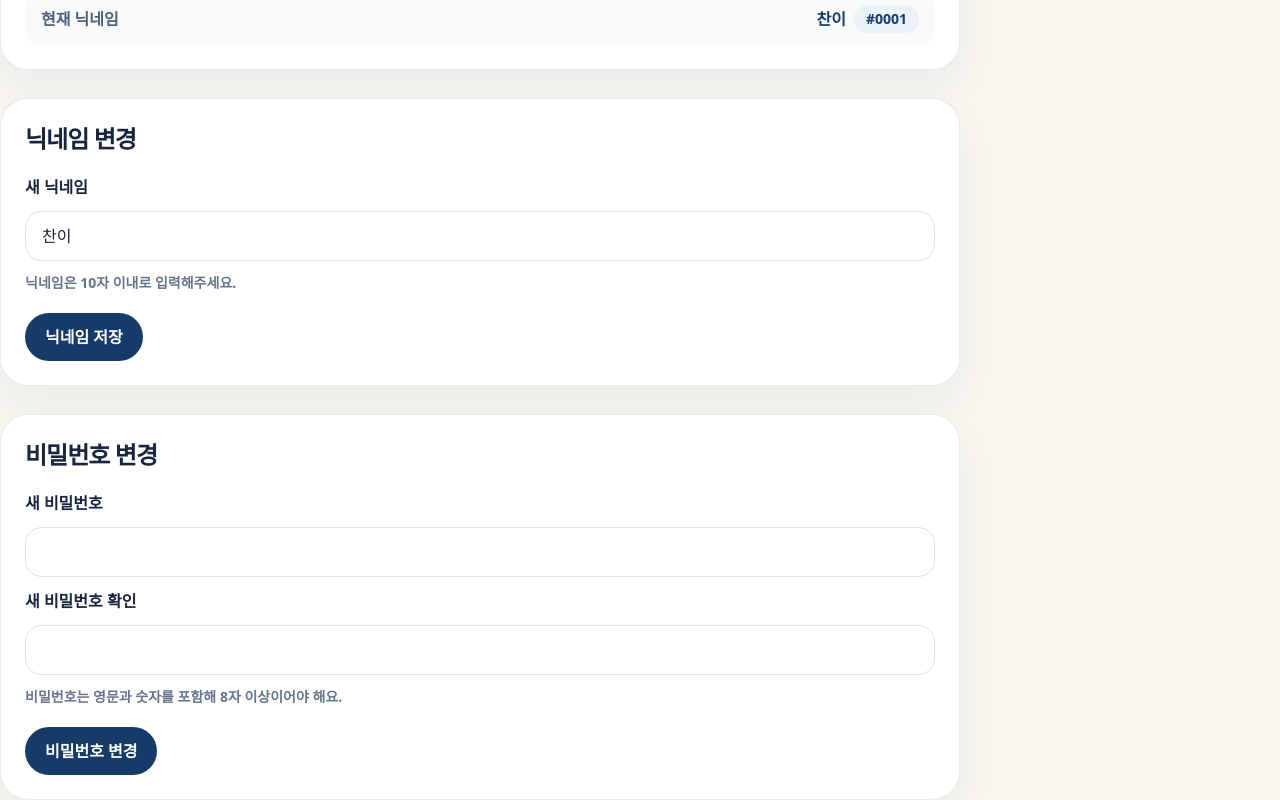
it: ProfilePage › shows a guide before saving an invalid password
(page scrolled)
Check: the field showing "찬이" is shown, box [25,210,935,260]
Type "password" into the password field labelled "새 비밀번호" at (480, 552), box [25,526,935,576]
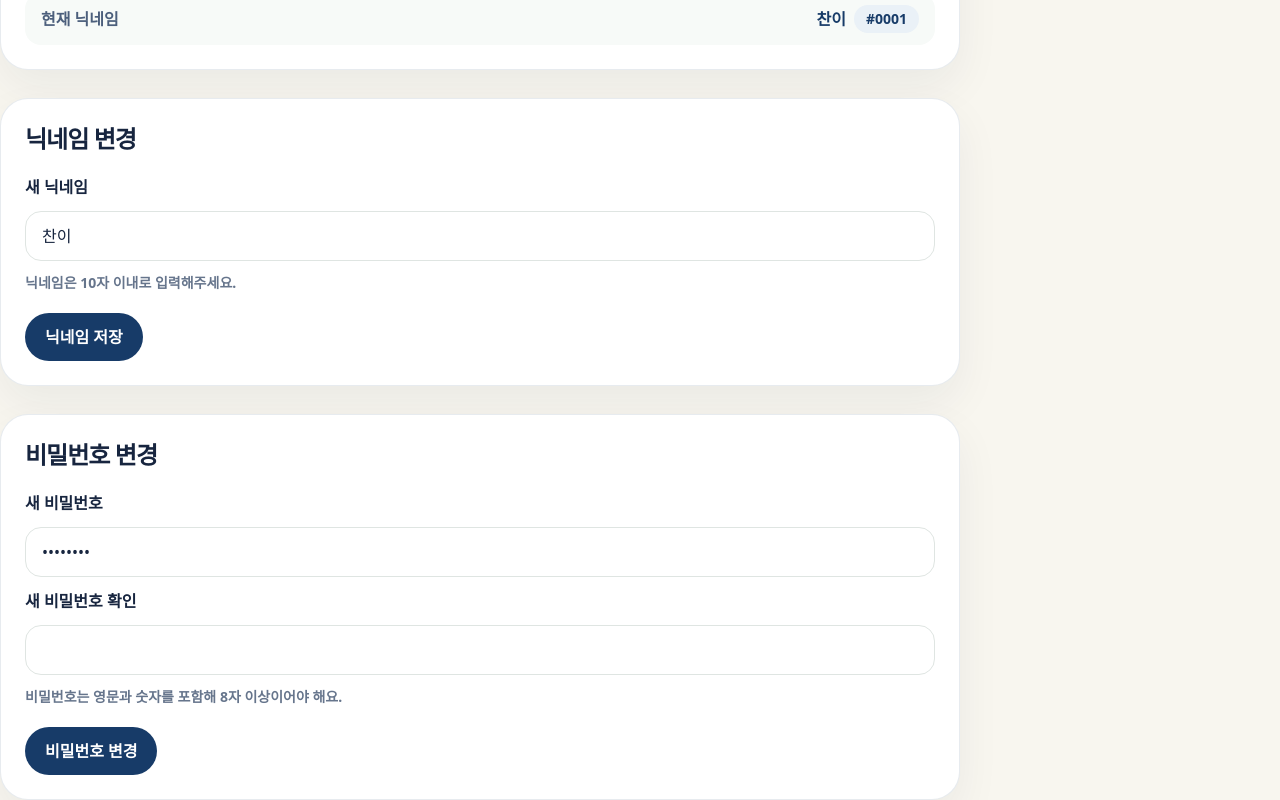
Type "password" into the password field labelled "새 비밀번호 확인" at (480, 650), box [25,624,935,674]
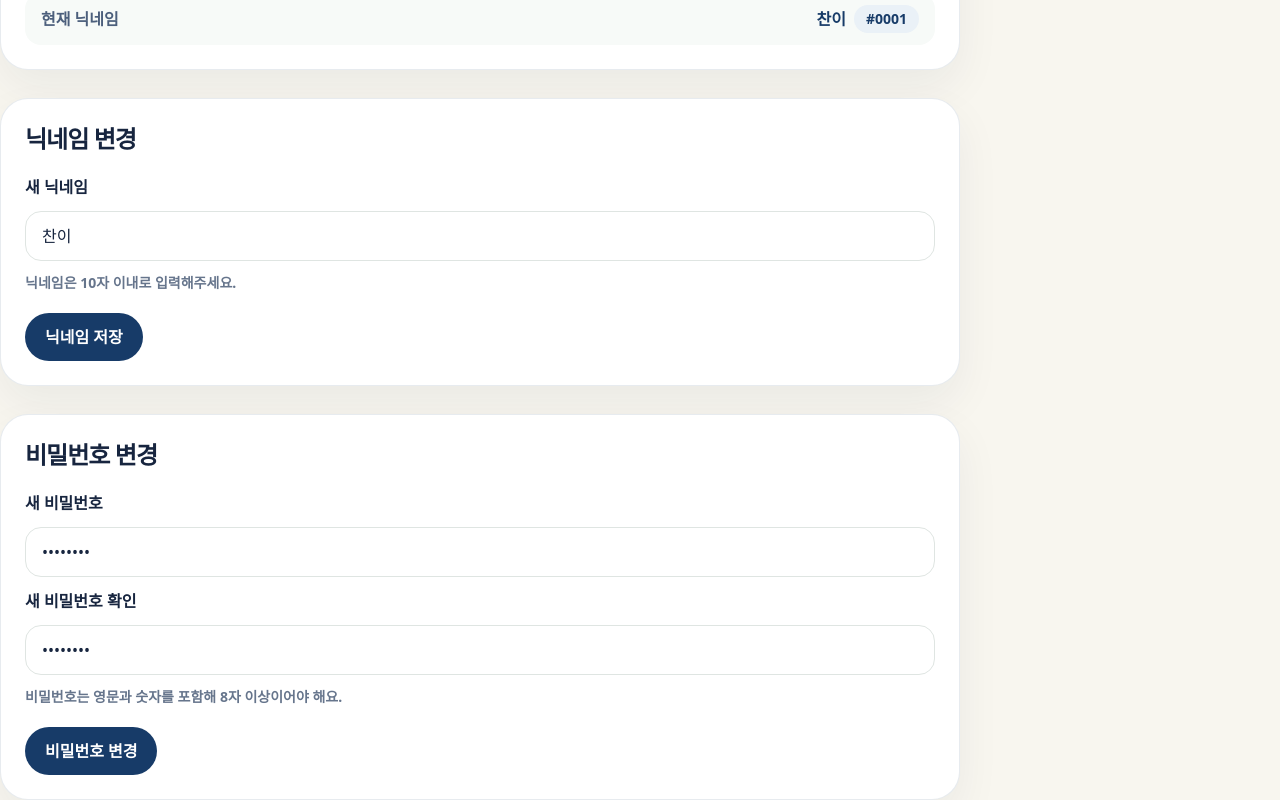
Click the button "비밀번호 변경" at (91, 750), box [25,726,158,774]
(page scrolled)
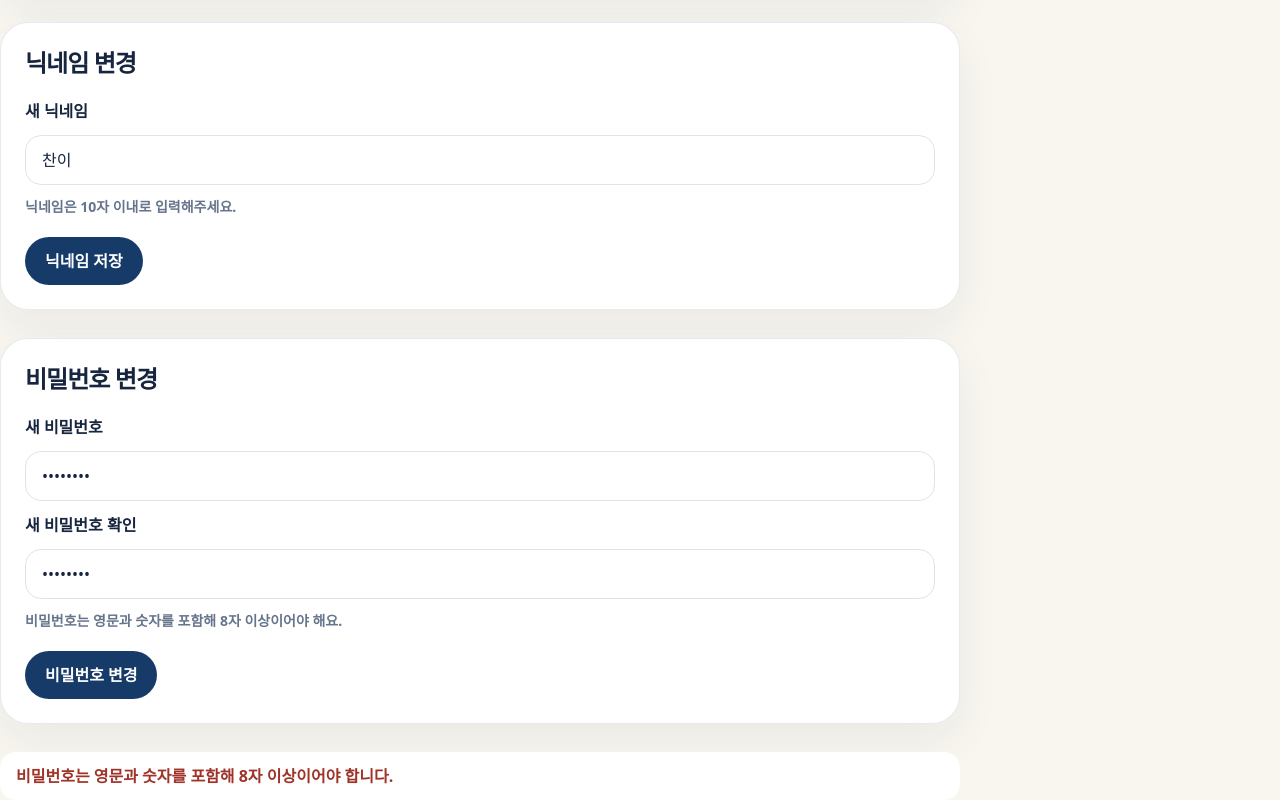
Check: the message reads "비밀번호는 영문과 숫자를 포함해 8자 이상이어야 합니다.", box [16,764,393,786]
